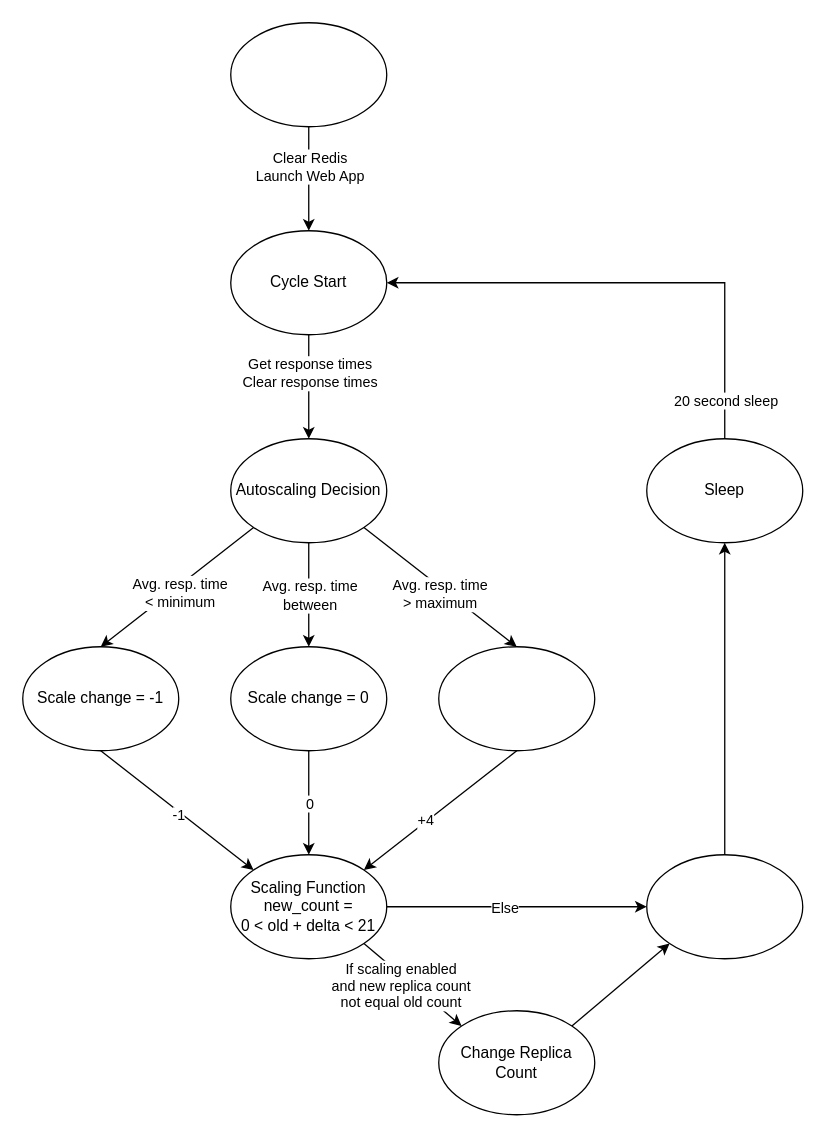
Image size: 826x1138. Some labels were removed from this diagram. Each missing label, with the centre of its shape:
"Initialization" belongs at (x=308, y=74).
"Log Statistics" belongs at (x=724, y=906).
"Scale change = +4" belongs at (x=516, y=698).
